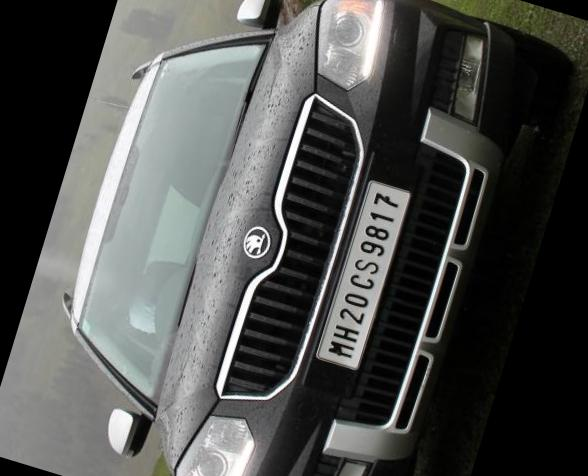plate: (300, 168, 426, 378)
